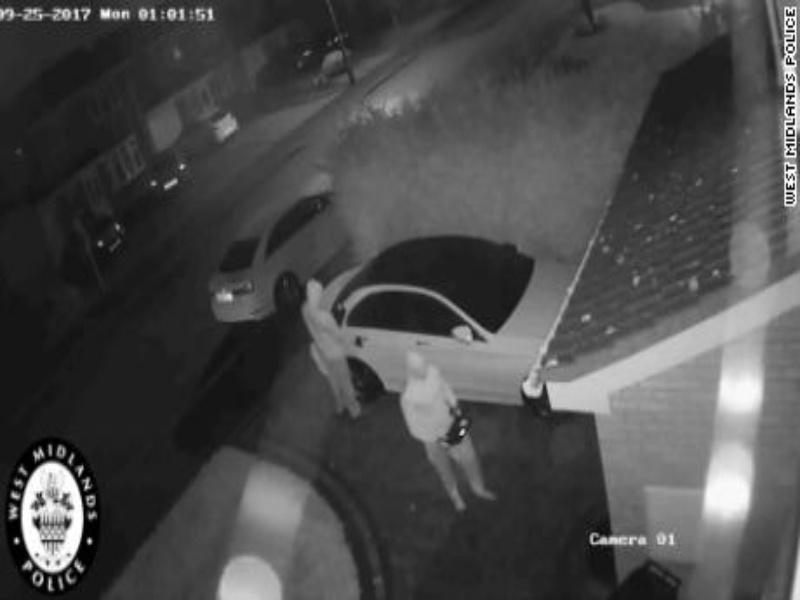car: (302, 227, 607, 423), (199, 183, 350, 334)
person: (390, 346, 504, 517), (296, 272, 368, 427)
